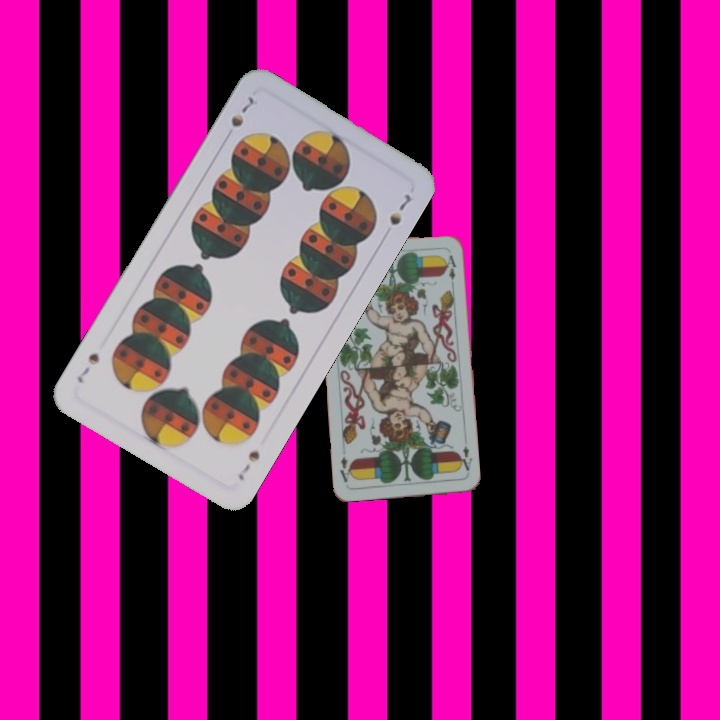EA: (455, 442, 475, 477)
S7: (227, 92, 257, 130), (234, 446, 263, 483)
